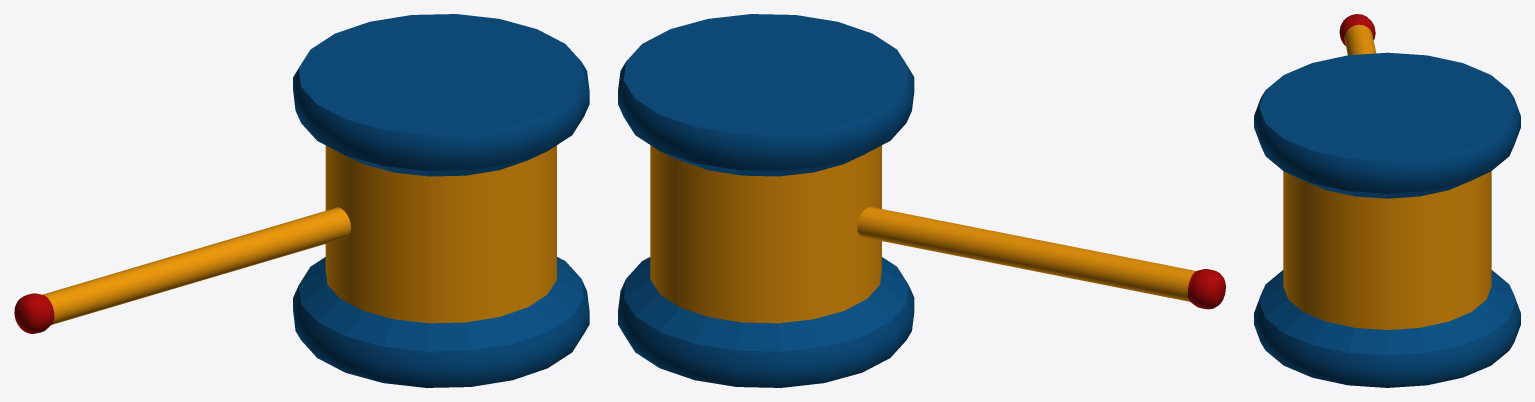
Rendered from obstacle07.fbx.
3 renders of one model, left to right at view 1: azimuth 30°, elevation 25°; view 2: azimuth 150°, elevation 25°; view 3: azimuth 270°, elevation 25°, orthographic. The views are drawn at different scales.
Parts seen in each view (by area): view 1: obstacle05; view 2: obstacle05; view 3: obstacle05.
Part boxes in pixels (x1,y1,x2,y2): obstacle05: [14, 14, 589, 387]; obstacle05: [618, 14, 1225, 387]; obstacle05: [1254, 14, 1520, 387].
Bounding box in the file's own units: 446 × 190 × 202.
